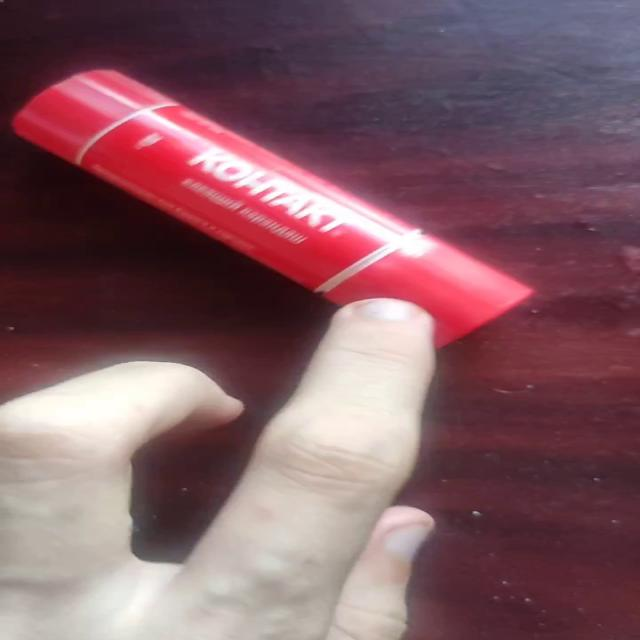glue: (10, 67, 535, 350)
